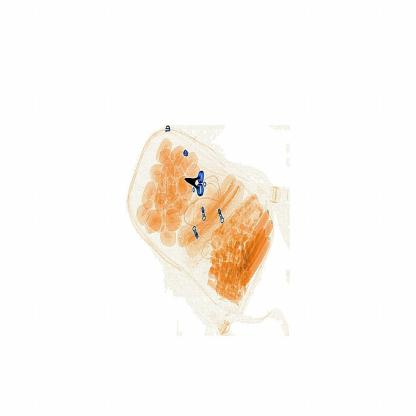gun: (182, 168, 219, 207)
